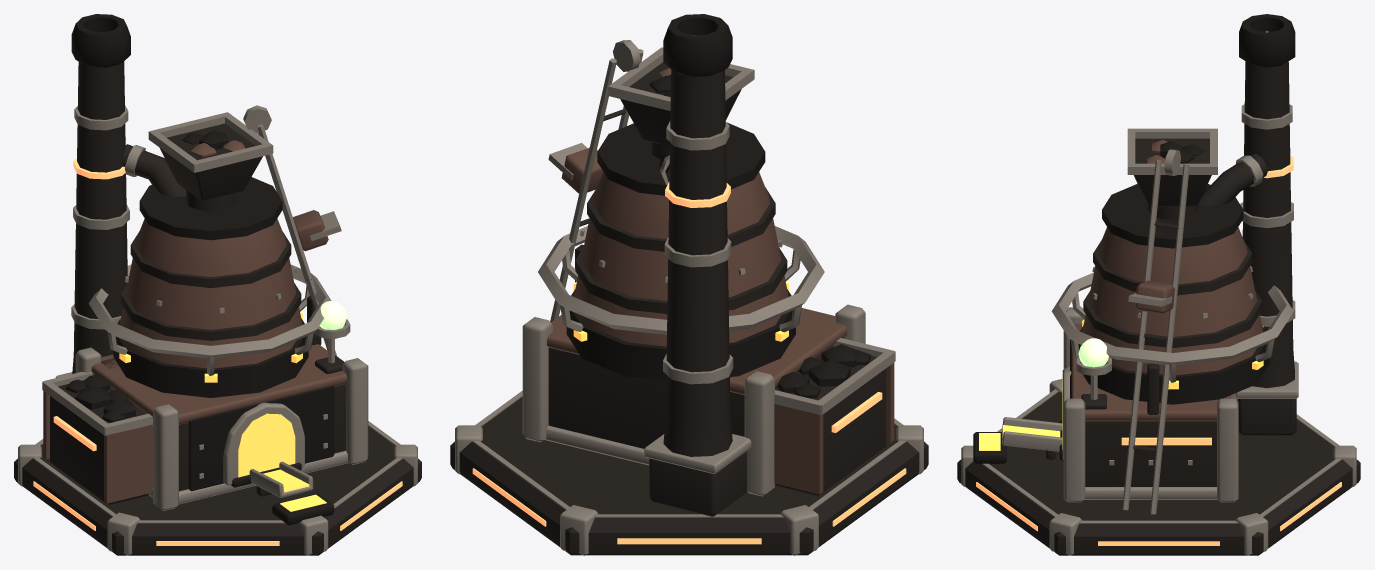
The model's file is fac_smelter.glb.
The picture shows the model from 3 angles, left to right: view 1: azimuth 30°, elevation 25°; view 2: azimuth 150°, elevation 25°; view 3: azimuth 270°, elevation 25°; orthographic projection. The views are drawn at different scales.
Parts seen in each view (by area): view 1: body, base, work, lamp; view 2: body, base, work; view 3: body, base, work, lamp.
Part boxes in pixels (x1,y1,x2,y2): body: (42,14,368,525); base: (14,421,421,555); work: (293,210,341,251); lamp: (314,301,350,338); body: (522,14,895,516); base: (450,390,928,555); work: (548,143,603,193); body: (973,14,1298,514); base: (957,379,1360,555); work: (1128,280,1174,313); lamp: (1076,338,1111,375).
Size of the model in its own units: 1.8 by 2.4 by 2.05.
